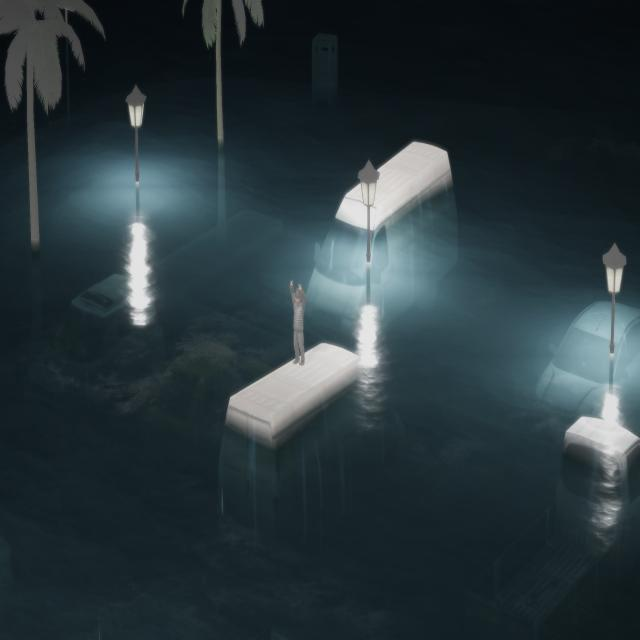Human: (283, 270, 314, 376)
